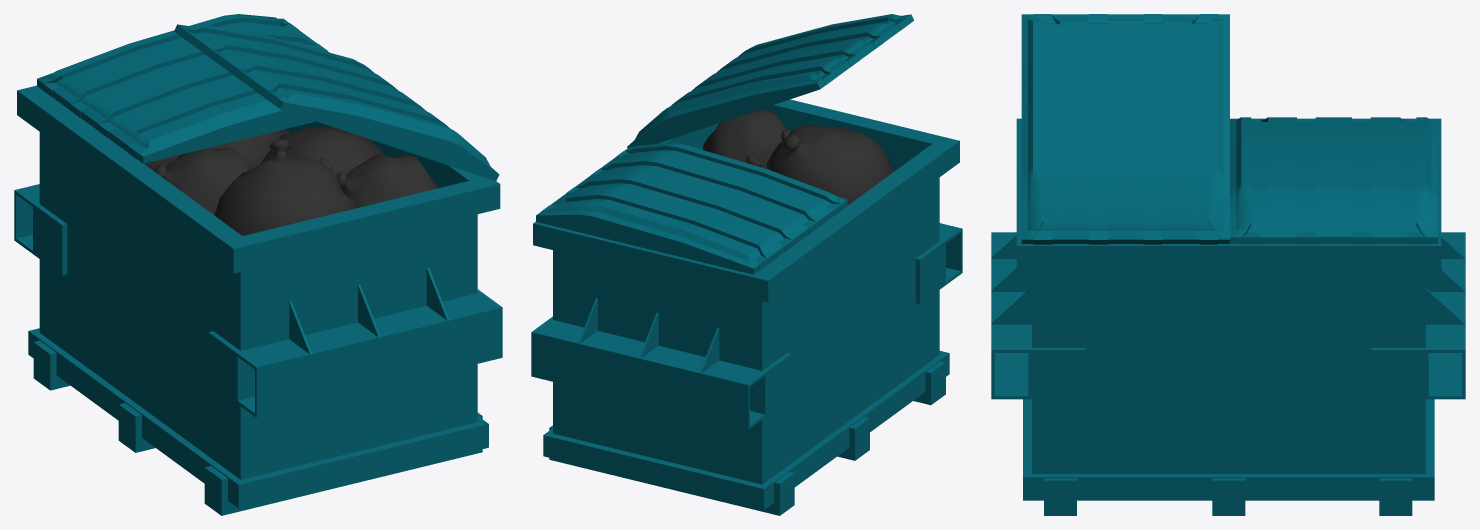
The model's file is Dumpster.fbx.
3 views of the same model, side by side, from view 1: azimuth 30°, elevation 25°; view 2: azimuth 150°, elevation 25°; view 3: azimuth 270°, elevation 25° (orthographic). The views are drawn at different scales.
Parts seen in each view (by area): view 1: Dumpster, TrashBagDump_1; view 2: Dumpster, TrashBagDump_1; view 3: Dumpster.
Part boxes in pixels (bbox=[...]): Dumpster: bbox=[14, 14, 502, 515]; TrashBagDump_1: bbox=[144, 126, 439, 235]; Dumpster: bbox=[531, 14, 962, 515]; TrashBagDump_1: bbox=[702, 109, 893, 205]; Dumpster: bbox=[991, 14, 1465, 515].
Size of the model in its own units: 160 by 234 by 250.
